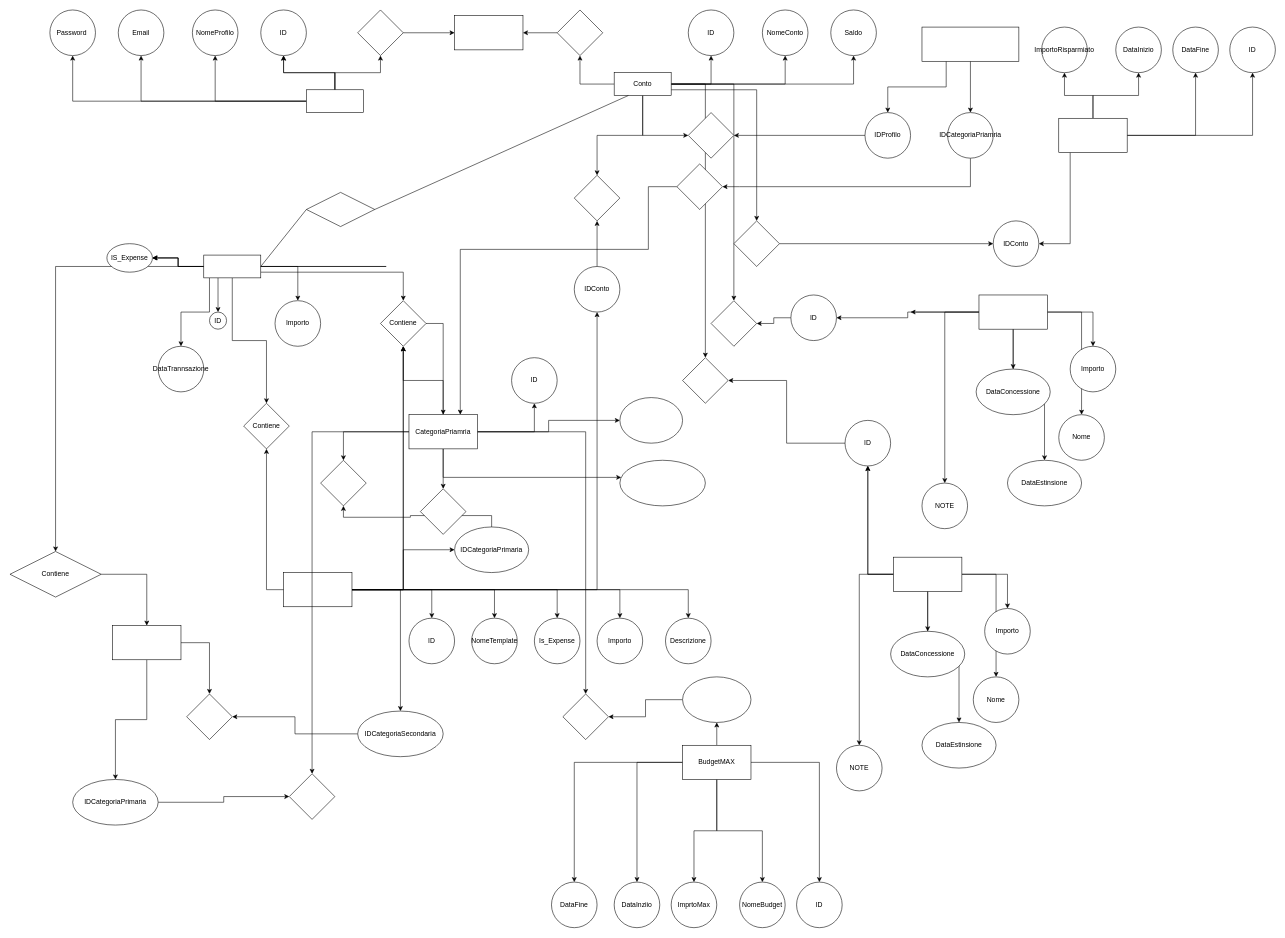
Some shapes in this 1285 by 938 pixel diagram are drawn without their labels. Each missing label, with the centre of its shape:
"AssConti" belongs at [488,32].
"CateogiraSecondaria" belongs at [146,642].
"Credit" belongs at [927,574].
"Debit" belongs at [1012,311].
"DescrizioneCategoria" belongs at [662,483].
"IDPrimaryCategory" belongs at [716,699].
"NomeCategoria" belongs at [651,420].
"Profili" belongs at [334,101].
"Profili_categoriaPriamria" belongs at [970,44].
"Relazione" belongs at [340,209].
"Risparmio" belongs at [1092,135].
"Template_transazione" belongs at [317,589].
"Transazione" belongs at [232,266].
